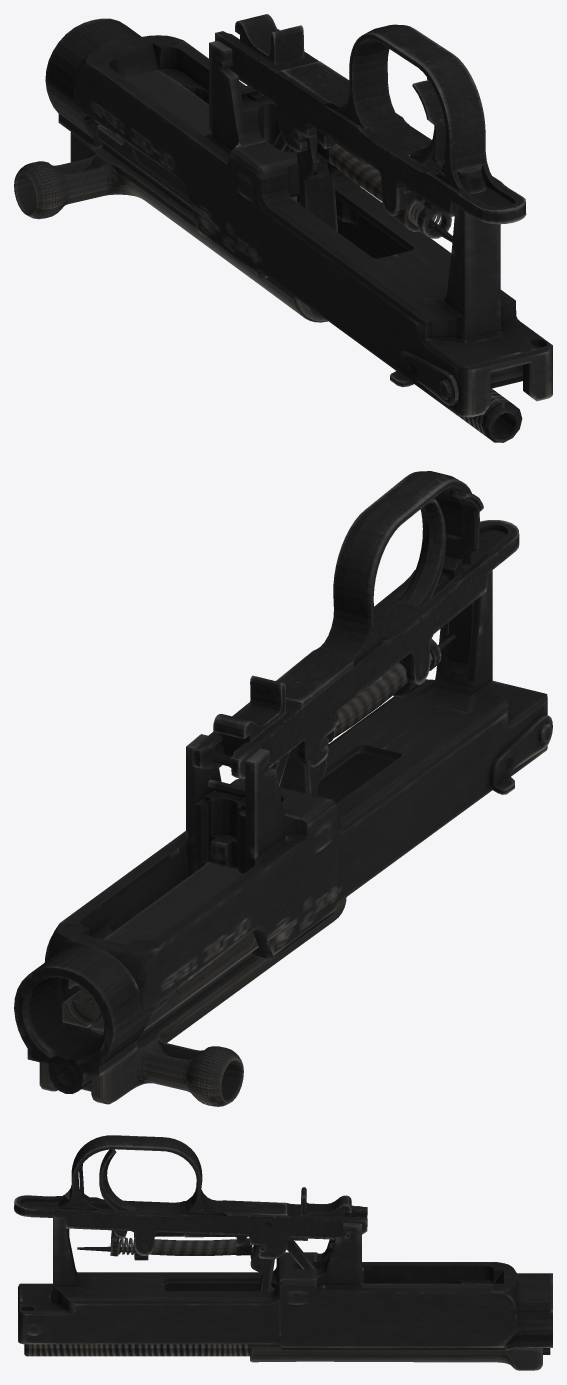
3 renders of one model, top to bottom at view 1: azimuth 30°, elevation 25°; view 2: azimuth 150°, elevation 25°; view 3: azimuth 270°, elevation 25°, orthographic. The views are drawn at different scales.
Parts seen in each view (by area): view 1: TW_587e02ff24597743df3deaeb_PZ_Import; view 2: TW_587e02ff24597743df3deaeb_PZ_Import; view 3: TW_587e02ff24597743df3deaeb_PZ_Import.
Boxes of the visible parts, box(x1,y1,x2,y2) form: TW_587e02ff24597743df3deaeb_PZ_Import: box(14, 14, 552, 442); TW_587e02ff24597743df3deaeb_PZ_Import: box(14, 471, 552, 1106); TW_587e02ff24597743df3deaeb_PZ_Import: box(14, 1135, 552, 1370).
Size of the model in its own units: 0.0314 by 0.1418 by 0.0657.
Materials: 1 (1 with a texture image).
